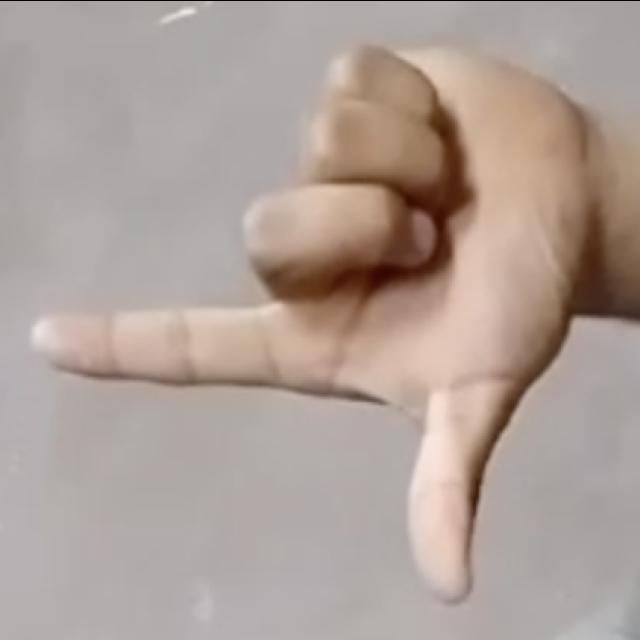LL: (21, 36, 594, 608)
